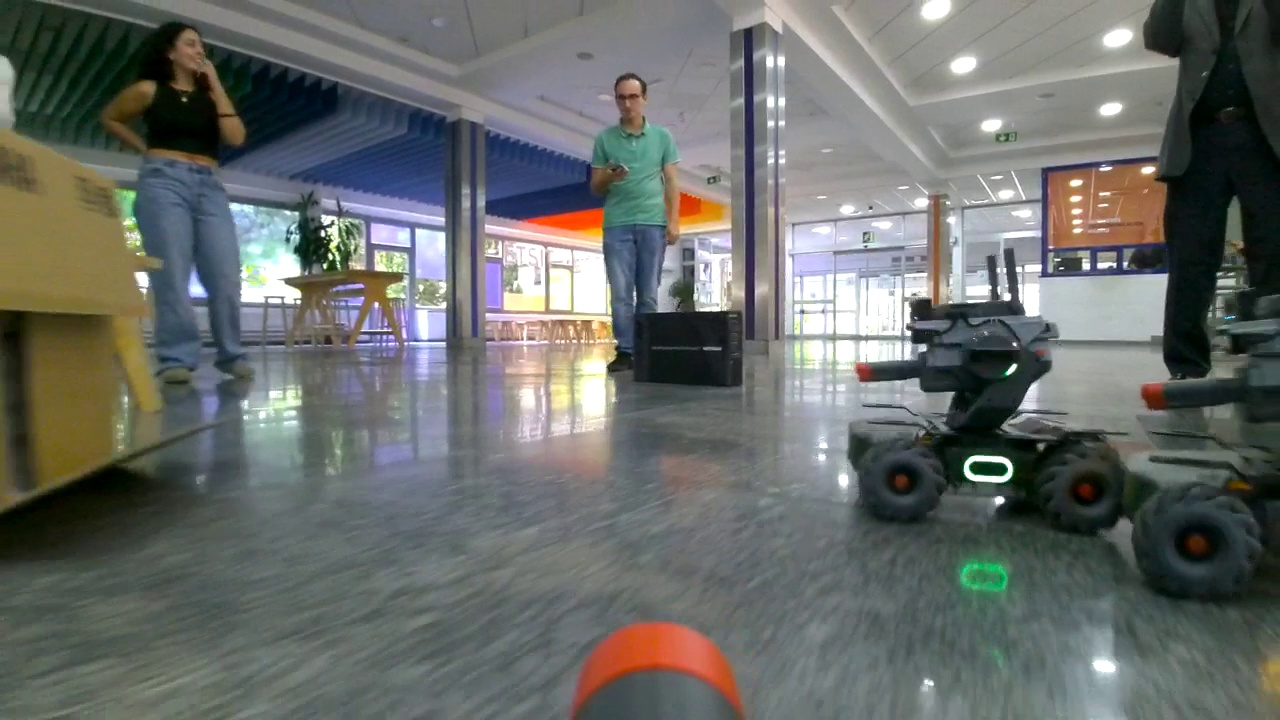robot: (847, 301, 1125, 538)
